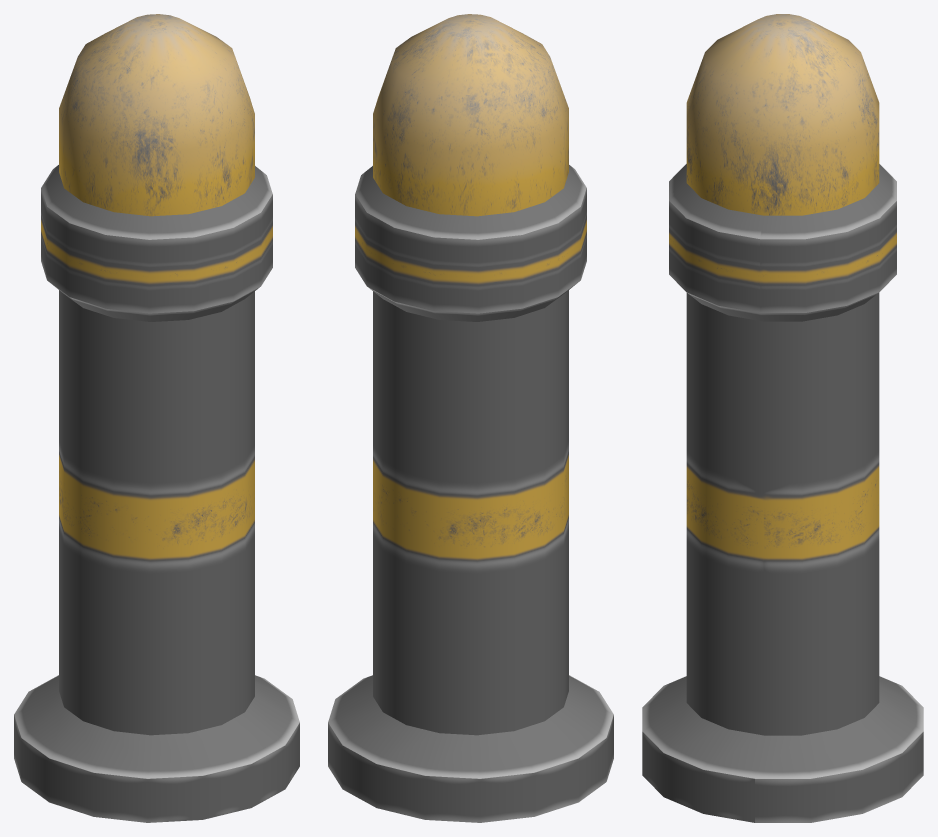
The model's file is Bollard.fbx.
3 views of the same model, side by side, from view 1: azimuth 30°, elevation 25°; view 2: azimuth 150°, elevation 25°; view 3: azimuth 270°, elevation 25° (orthographic).
Visible parts, largest first — view 1: Bollard; view 2: Bollard; view 3: Bollard.
Part boxes in pixels (<box>): Bollard: <box>14,14,299,822</box>; Bollard: <box>328,14,613,822</box>; Bollard: <box>642,14,923,822</box>.
Size of the model in its own units: 43.92 by 128 by 43.92.
Materials: 1 (1 with a texture image).
